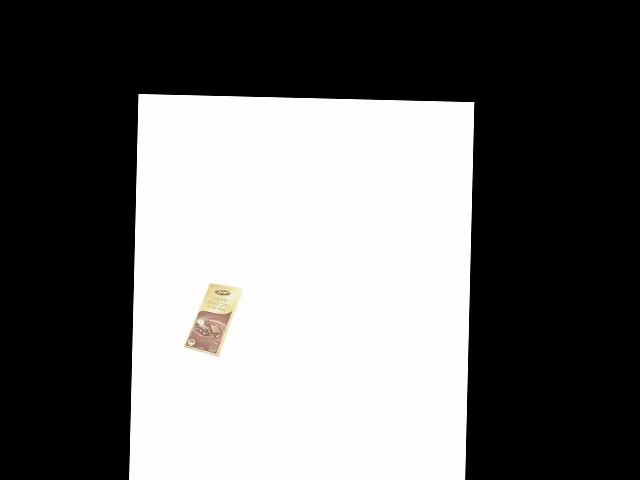chocolate: (183, 282, 245, 364)
